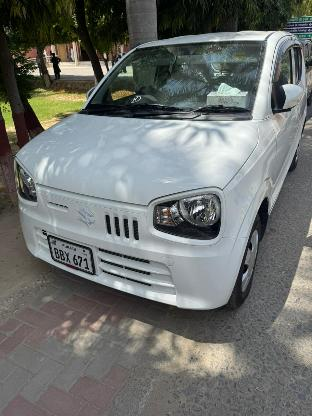car: (6, 23, 312, 319)
